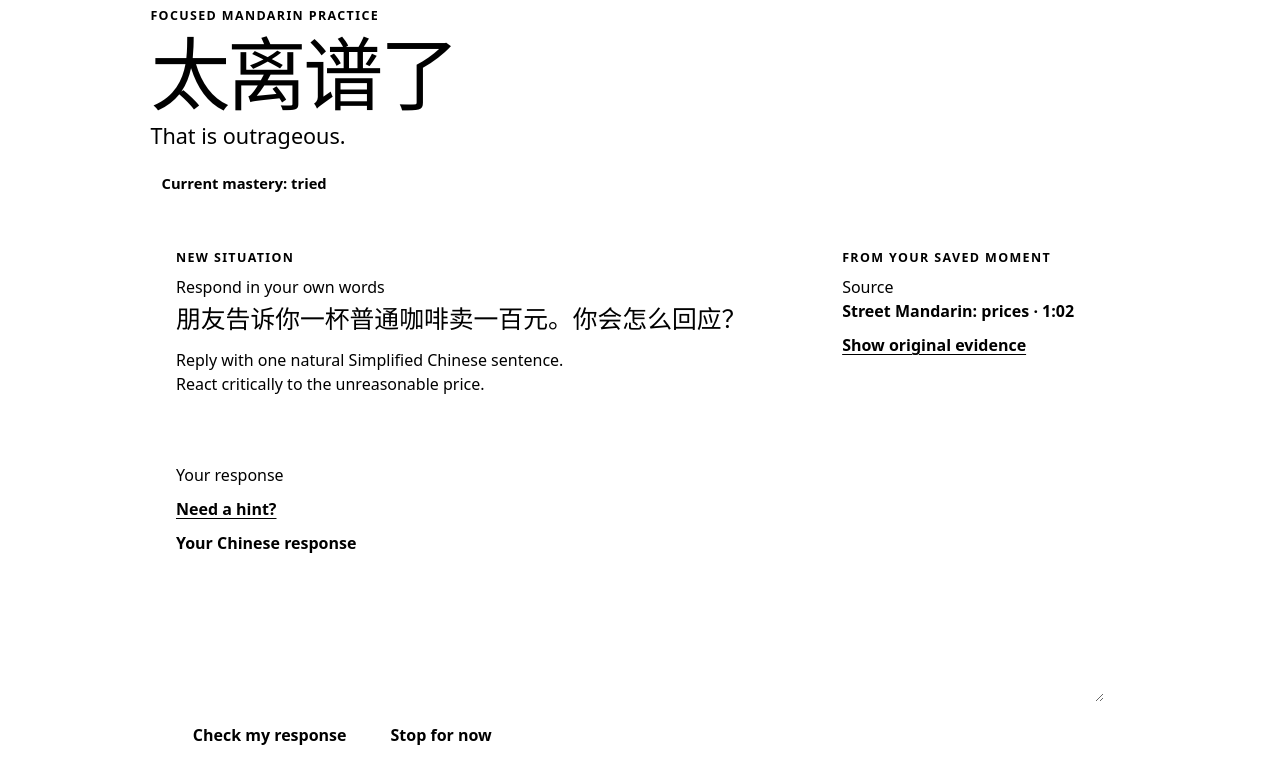
Test: PracticeSession › never claims Vault evidence for a hint-assisted original
This screenshot has width=1280, height=769.
Click the button "Need a hint?": [226, 509] box [176,487,276,531]
(page scrolled)
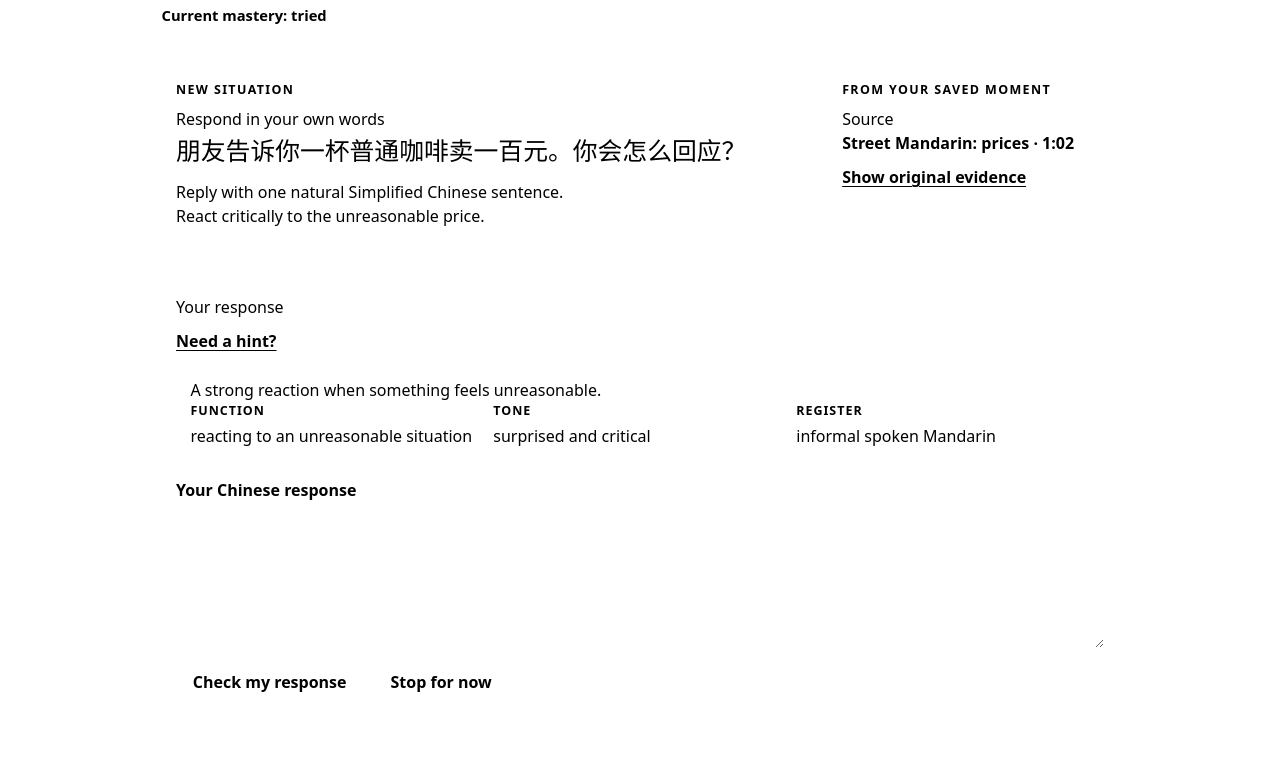
In the text box labelled "Your Chinese response": [640, 580] box [176,512,1104,648], type "这个价格也太离谱了。"
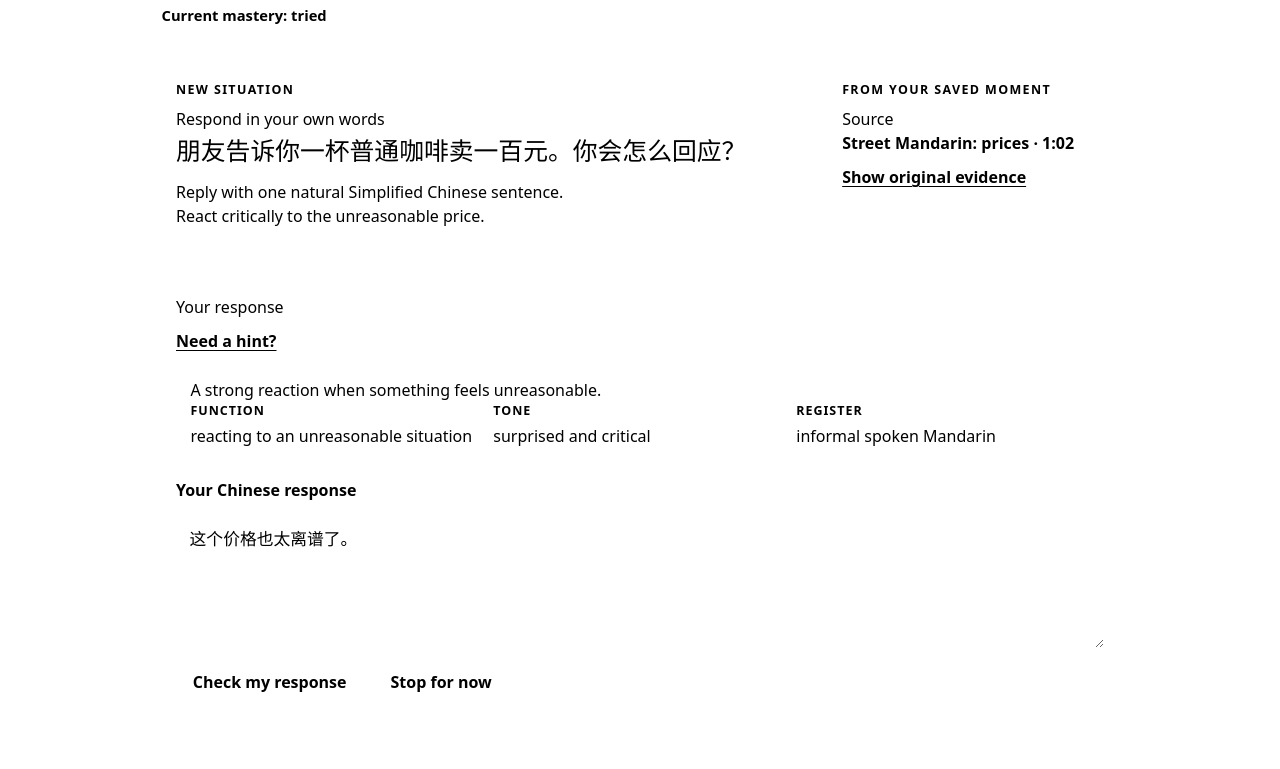
Click the button "Check my response": [270, 682] box [176,659,363,705]
(page scrolled)
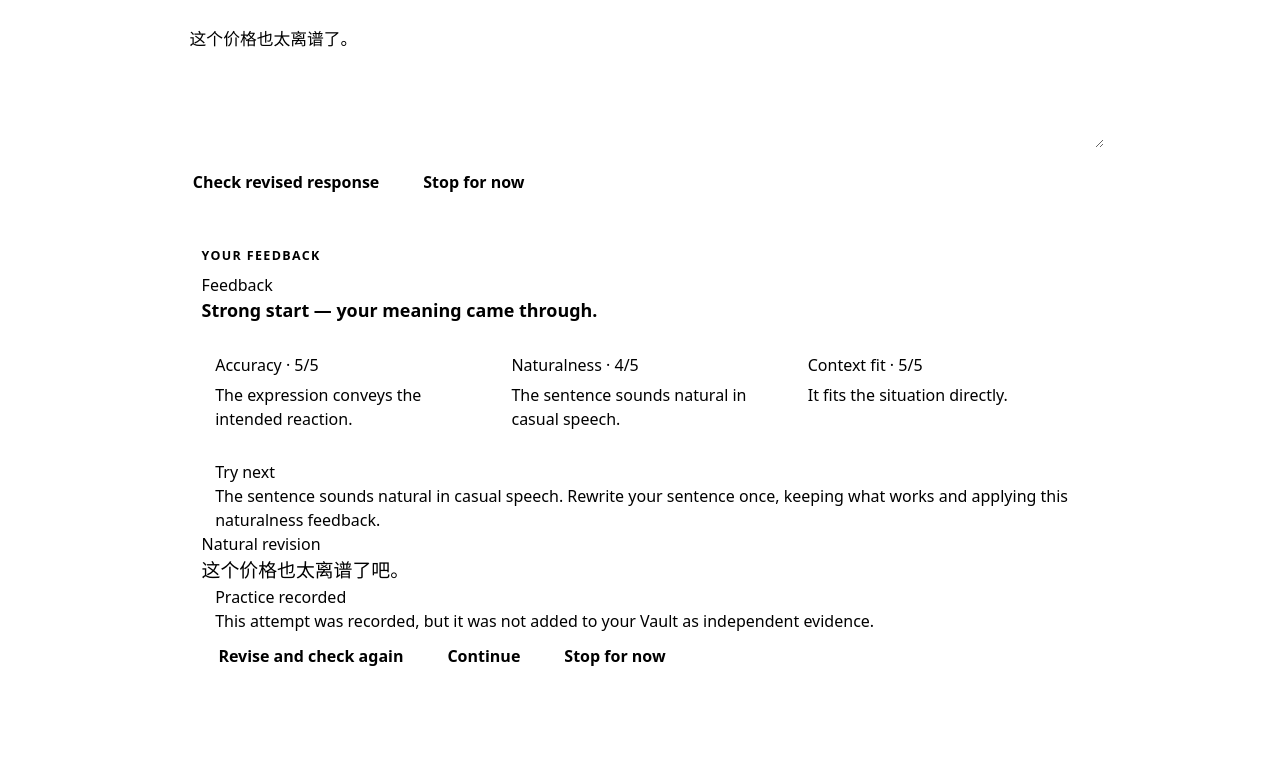
Expected: the text "not added to your Vault" is shown, [215,610,874,632]
